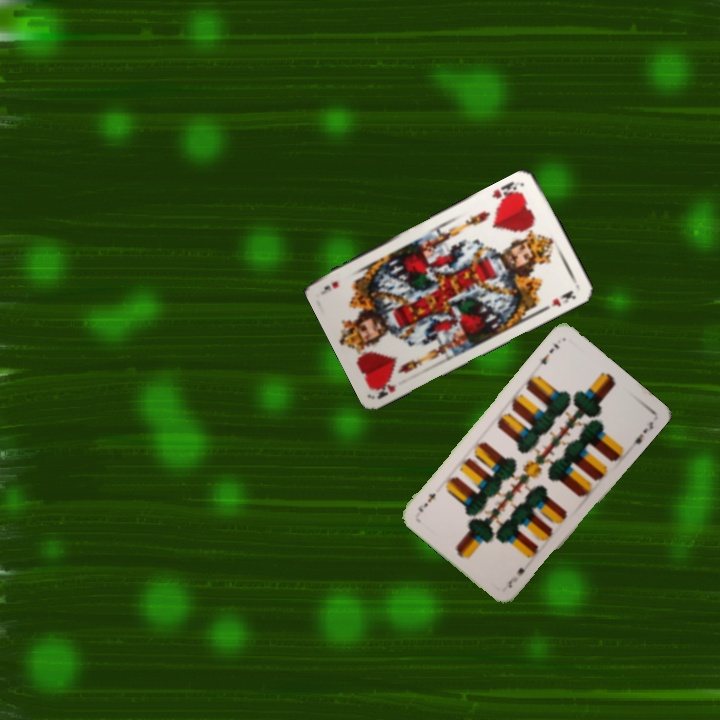E7: (533, 339, 562, 369), (504, 564, 527, 590)
HK: (488, 177, 524, 207), (370, 376, 398, 401)
